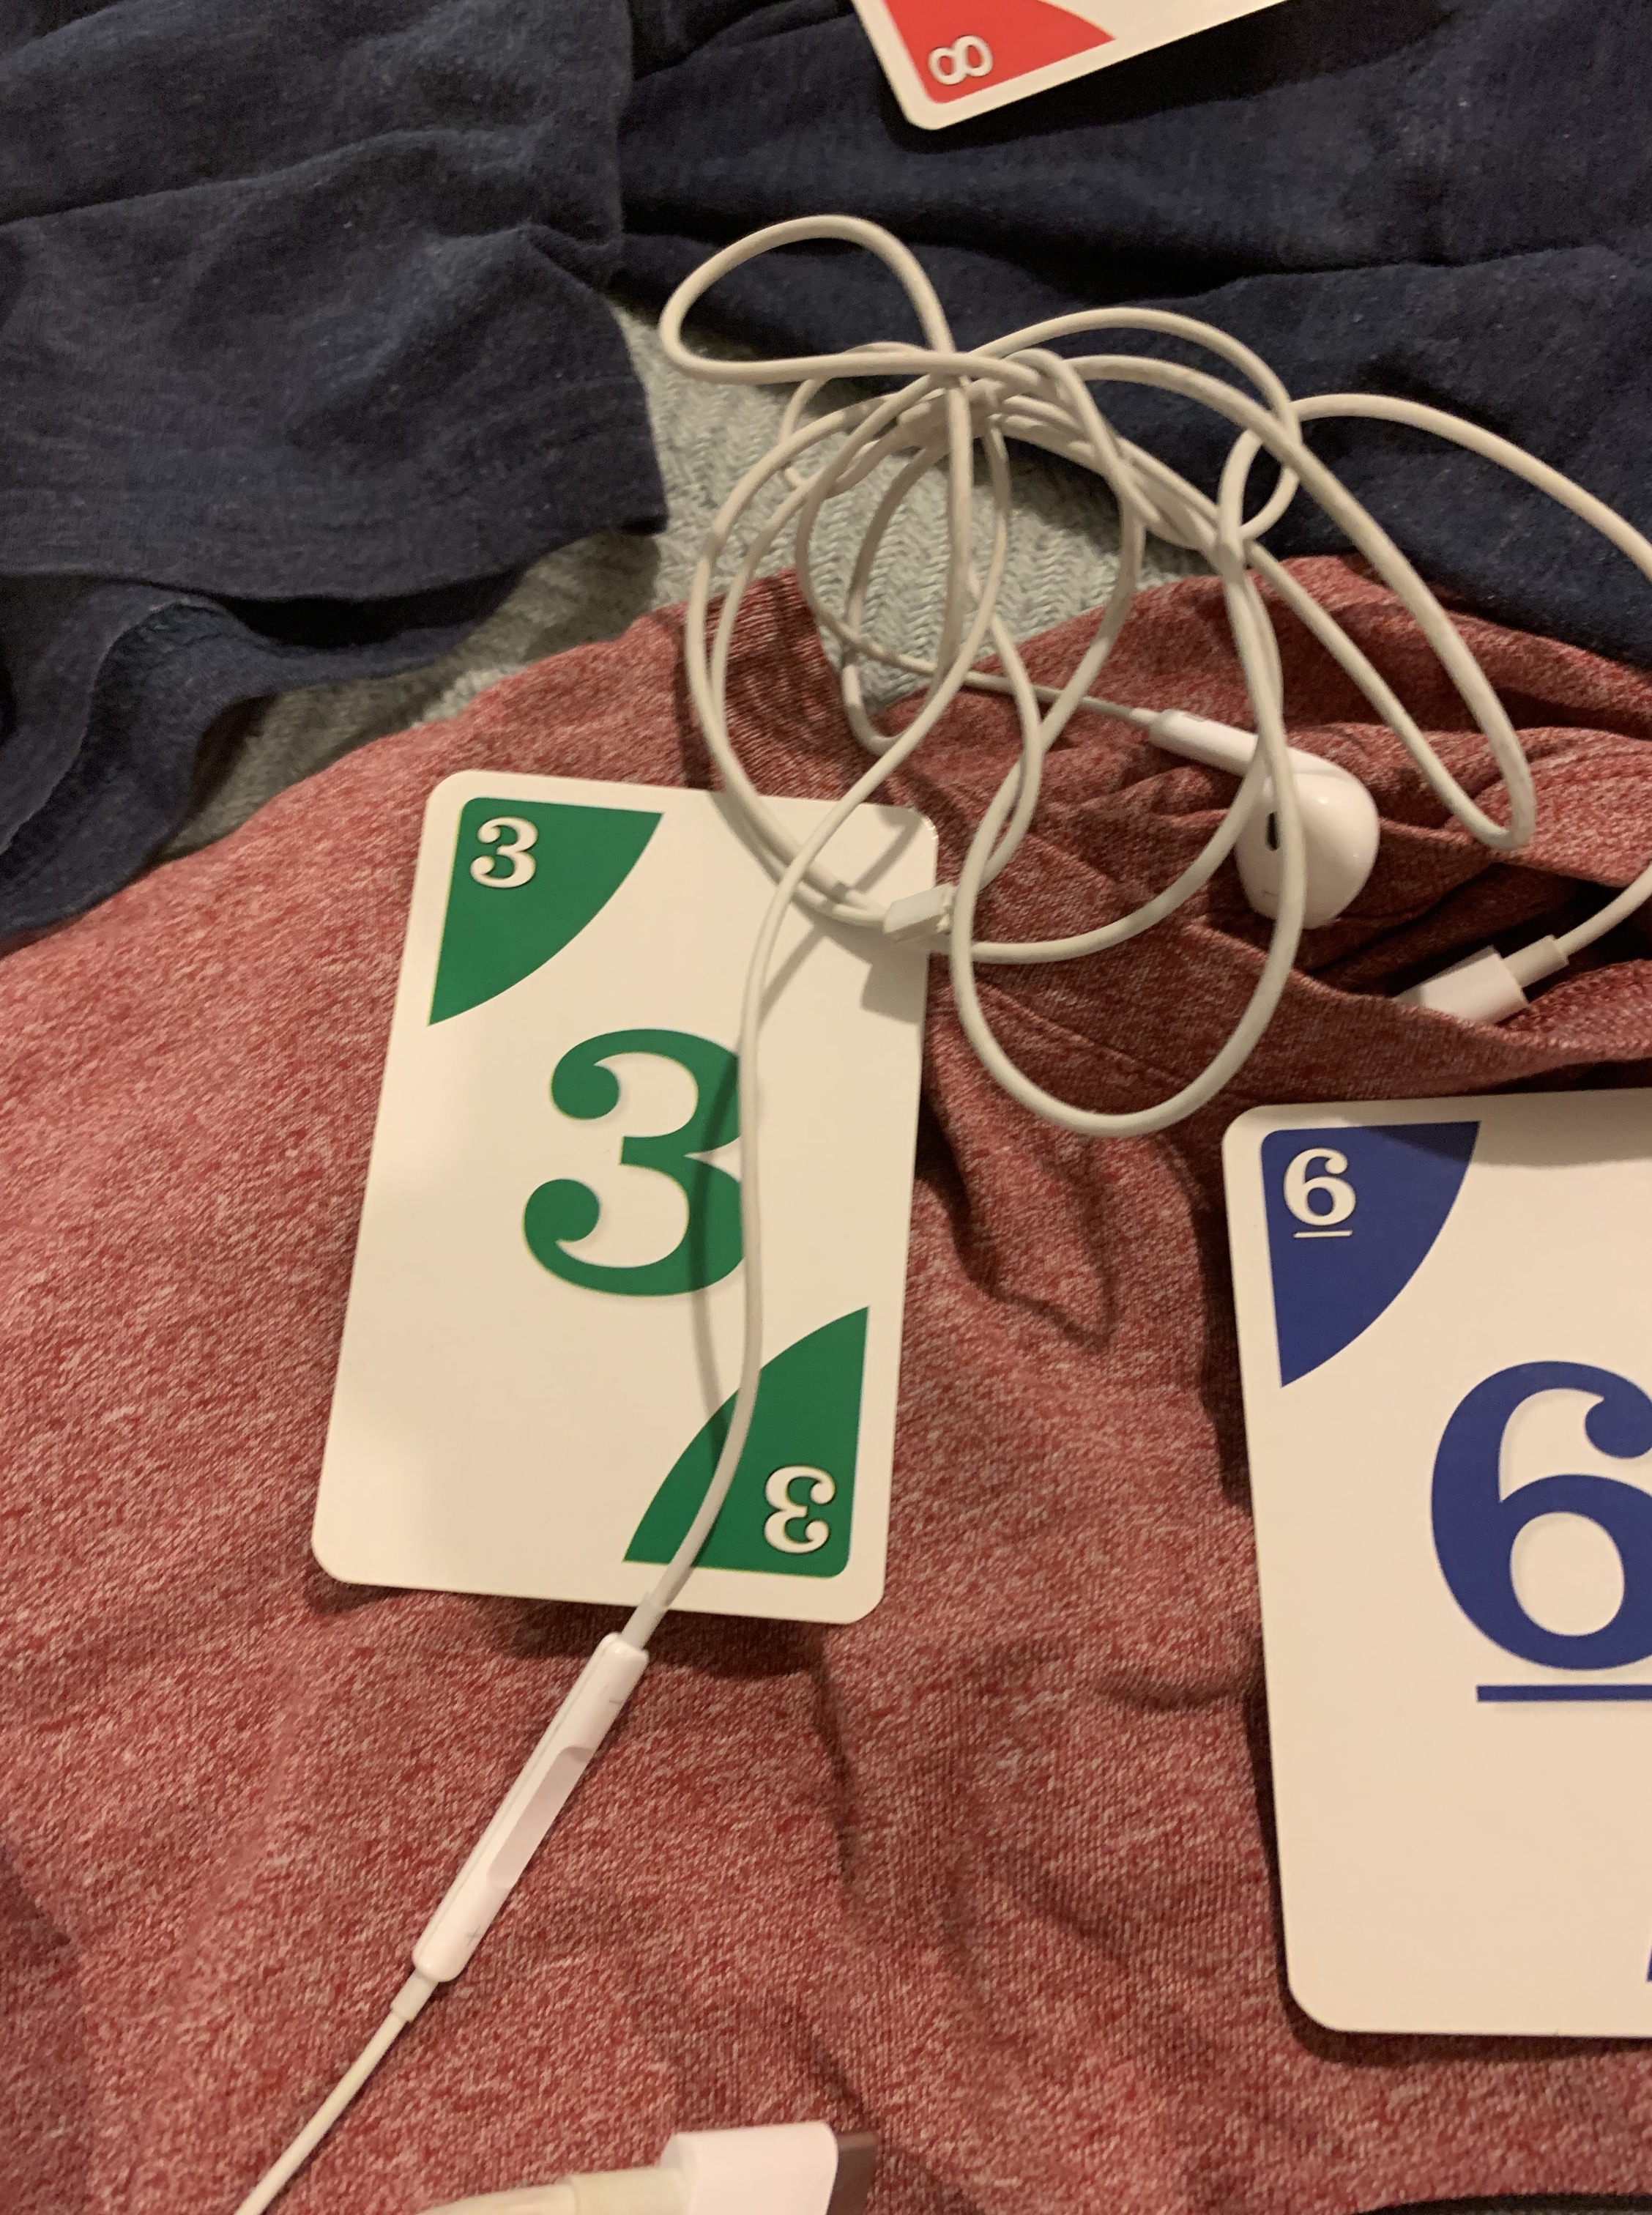six: (1208, 1071, 1652, 2078)
three: (285, 766, 946, 1637)
